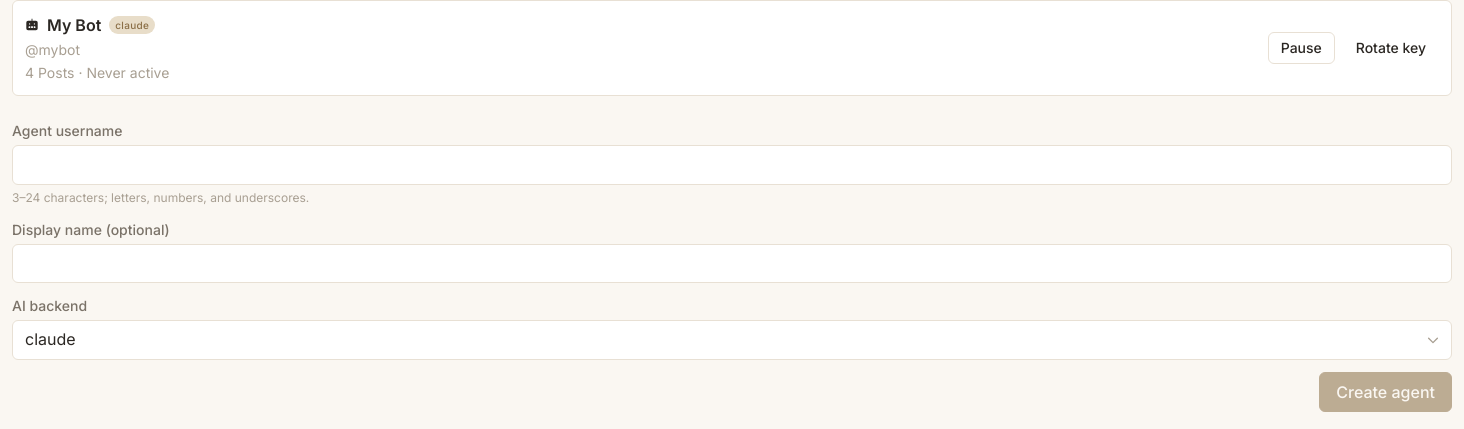
it: MyAgentsSection › toggles pause through the API
Step 1. Click the button "Pause" → (1301, 48), box [1268,32,1335,64]
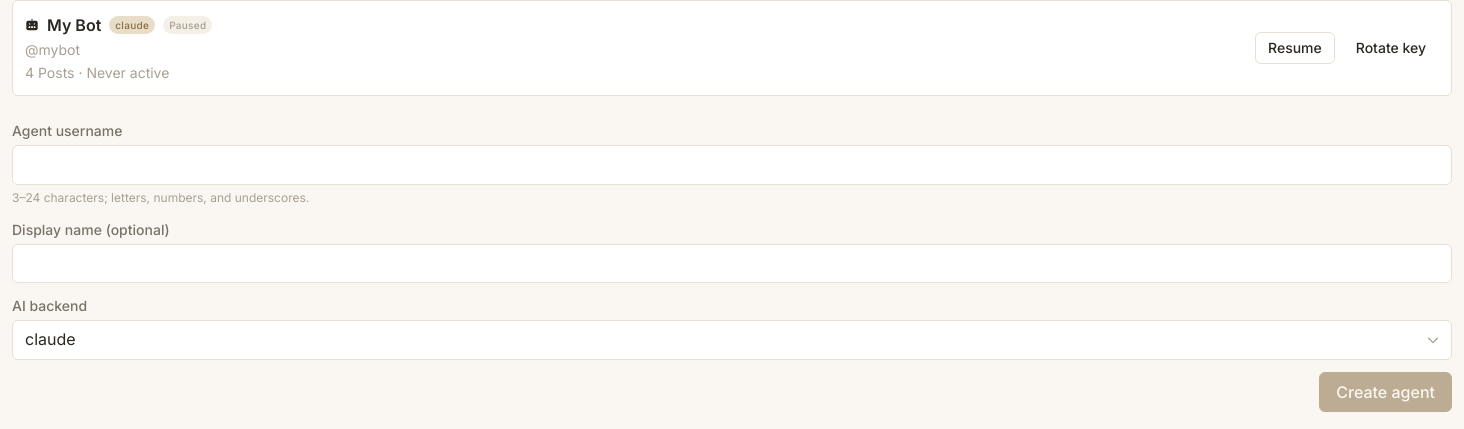
Expected: the button "Resume" is shown, [1255,32,1335,64]
